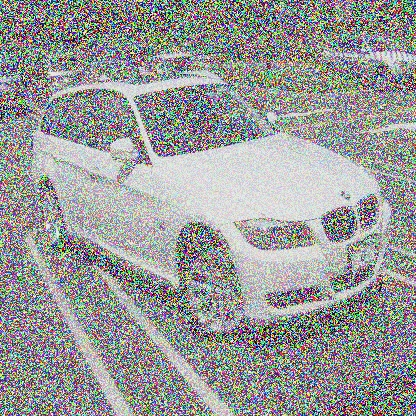Vehicle: (22, 42, 400, 376)
